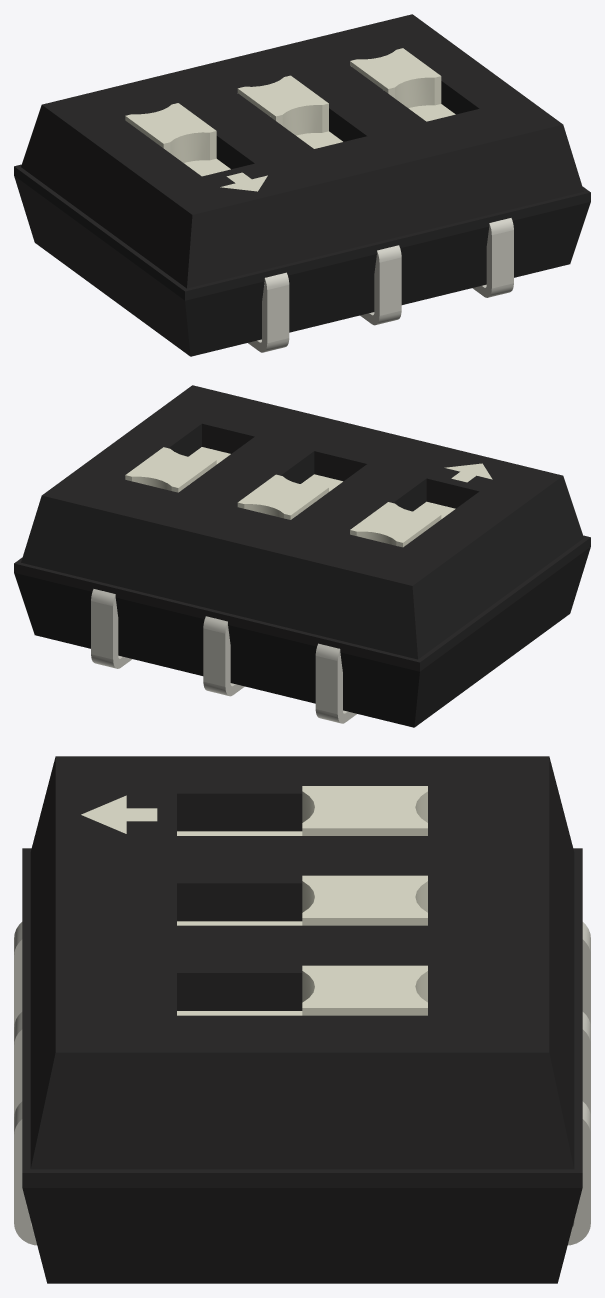
The model's file is kc-sw_dip_spstx03_slide_6.7x9.18mm_w6.73mm_p2.54mm_lowprofile_jpin.glb.
3 views of the same model, one above another, from view 1: azimuth 30°, elevation 25°; view 2: azimuth 150°, elevation 25°; view 3: azimuth 270°, elevation 25° (orthographic). The views are drawn at different scales.
Parts seen in each view (by area): view 1: 0_0_0_0, 0.75_0.75_0.6666666666666666_0, 0.6666666666666666_0.6666666666666666_0.5833333333333334_0.8; view 2: 0_0_0_0, 0.75_0.75_0.6666666666666666_0, 0.6666666666666666_0.6666666666666666_0.5833333333333334_0.8; view 3: 0_0_0_0, 0.75_0.75_0.6666666666666666_0, 0.6666666666666666_0.6666666666666666_0.5833333333333334_0.8.
Boxes of the visible parts, x1=… form: 0_0_0_0: x1=14, y1=14, x2=590, y2=356; 0.75_0.75_0.6666666666666666_0: x1=125, y1=48, x2=455, y2=191; 0.6666666666666666_0.6666666666666666_0.5833333333333334_0.8: x1=248, y1=218, x2=513, y2=352; 0_0_0_0: x1=14, y1=385, x2=590, y2=727; 0.75_0.75_0.6666666666666666_0: x1=125, y1=447, x2=492, y2=547; 0.6666666666666666_0.6666666666666666_0.5833333333333334_0.8: x1=91, y1=589, x2=356, y2=723; 0_0_0_0: x1=22, y1=756, x2=582, y2=1283; 0.75_0.75_0.6666666666666666_0: x1=81, y1=786, x2=427, y2=1015; 0.6666666666666666_0.6666666666666666_0.5833333333333334_0.8: x1=14, y1=922, x2=590, y2=1245.
Size of the model in its own units: 0.918 by 0.33 by 0.69.
